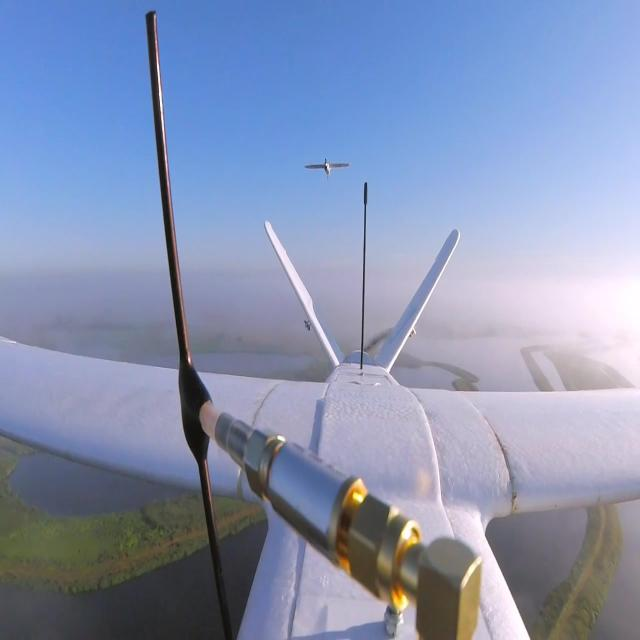iha: (298, 158, 345, 180)
